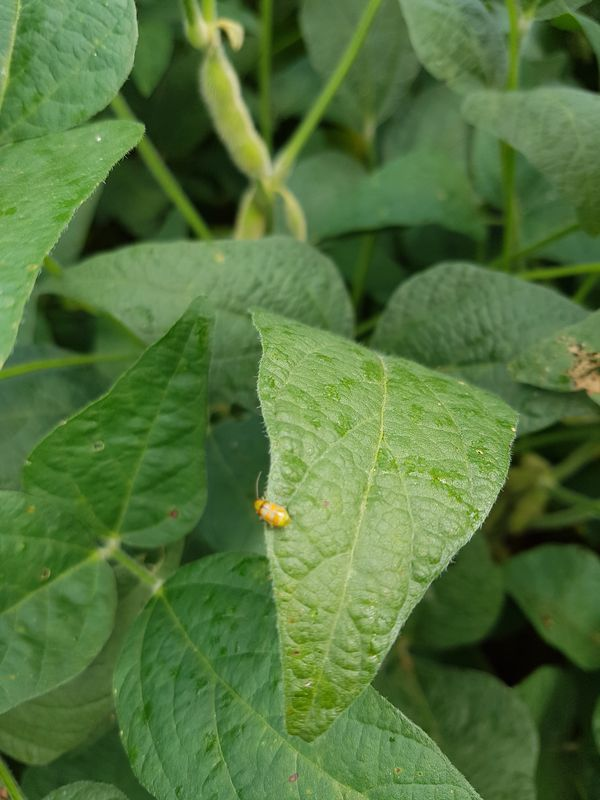Diabrotica_speciosa: (243, 487, 299, 540)
